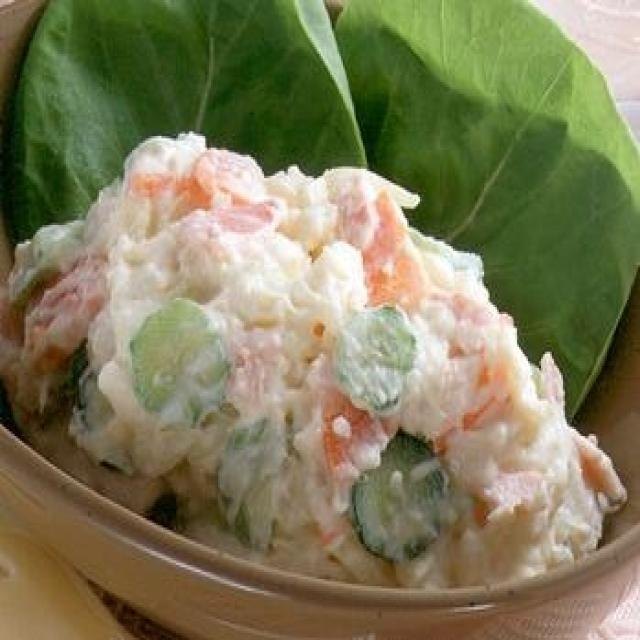蔬菜料理: (3, 126, 634, 588)
